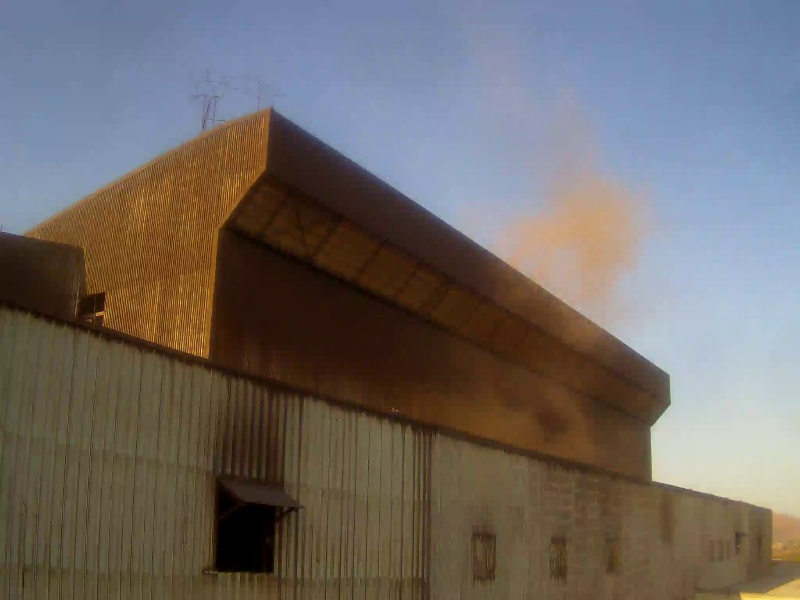bom: (281, 6, 464, 258), (119, 5, 285, 170)
pessimo: (469, 85, 658, 440)
